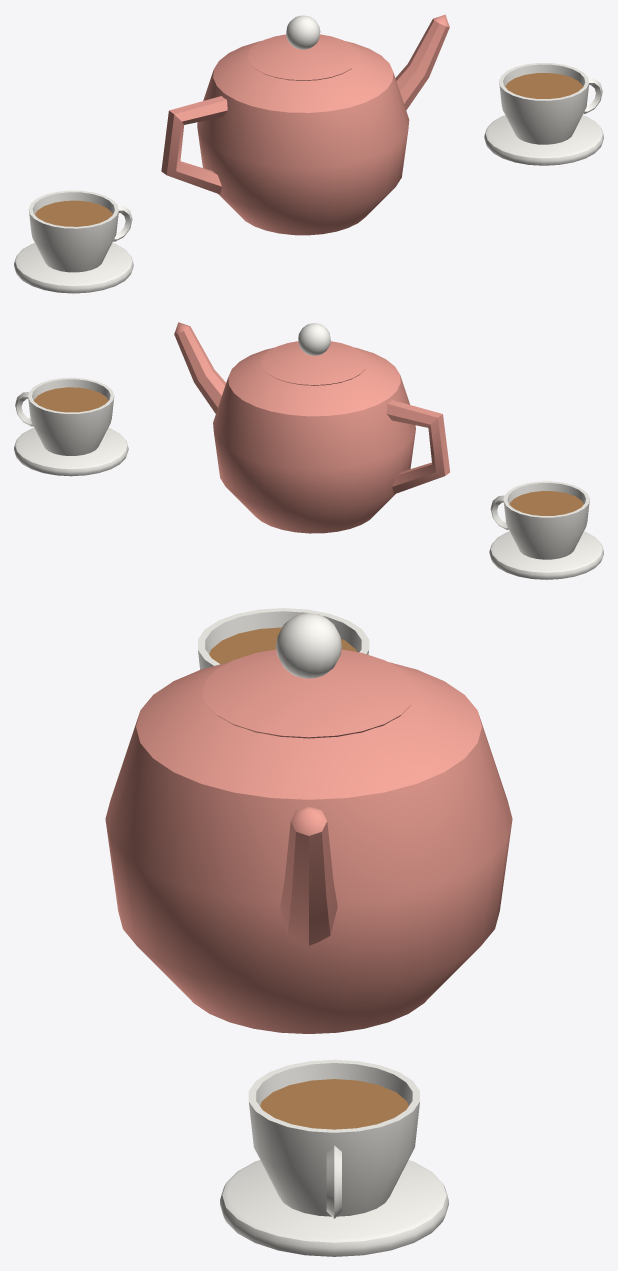
File: tea_set.glb
3 renders of one model, top to bottom at view 1: azimuth 30°, elevation 25°; view 2: azimuth 150°, elevation 25°; view 3: azimuth 270°, elevation 25°, orthographic. The views are drawn at different scales.
Visible parts, largest first — view 1: tea_set; view 2: tea_set; view 3: tea_set.
Boxes of the visible parts, bbox=[...] form: tea_set: bbox=[14, 14, 603, 293]; tea_set: bbox=[14, 322, 603, 579]; tea_set: bbox=[105, 608, 512, 1256].
Bounding box in the file's own units: 0.516 × 0.158 × 0.16.
